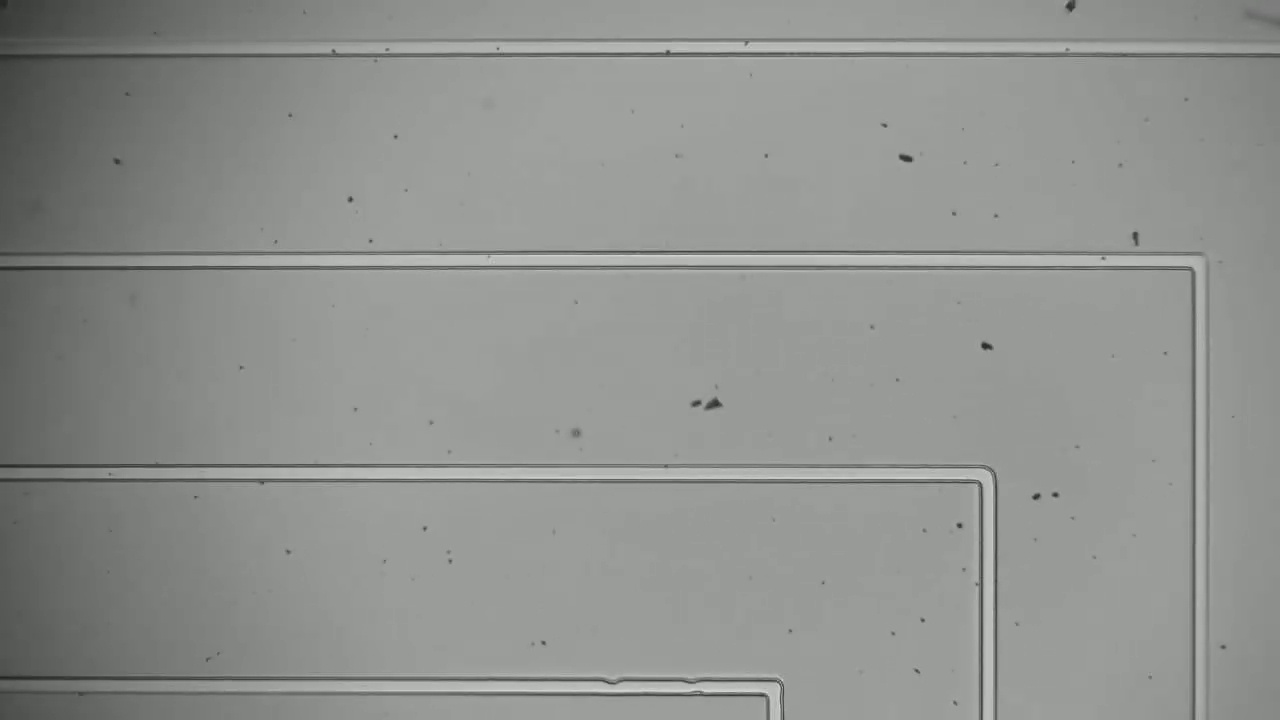edge_bite: (594, 669, 629, 703), (675, 667, 710, 699)
